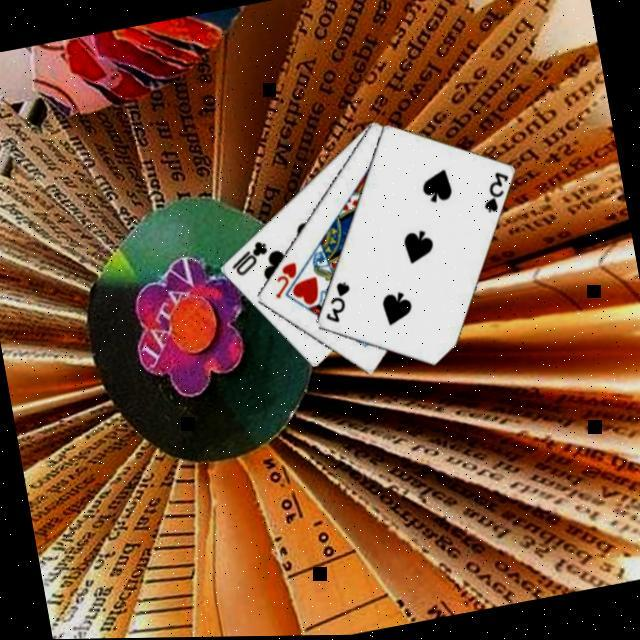10C: (221, 235, 271, 280)
3S: (315, 277, 356, 326), (473, 168, 514, 217)
JH: (264, 259, 301, 302)
